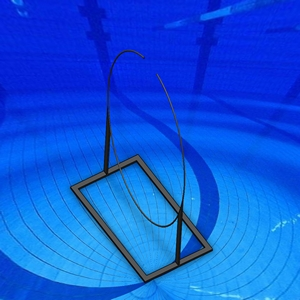circle: (70, 49, 215, 283)
